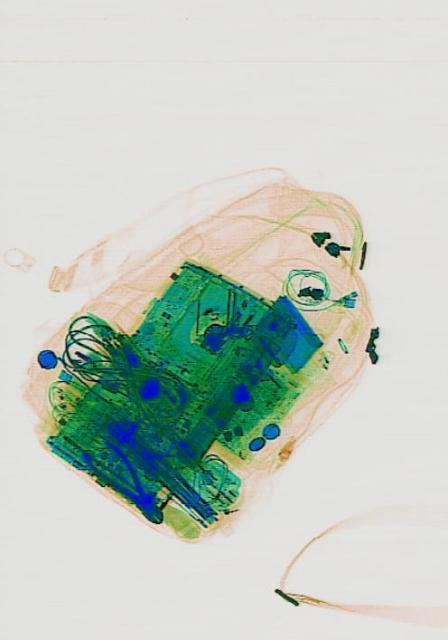Pliers: (77, 424, 170, 536)
